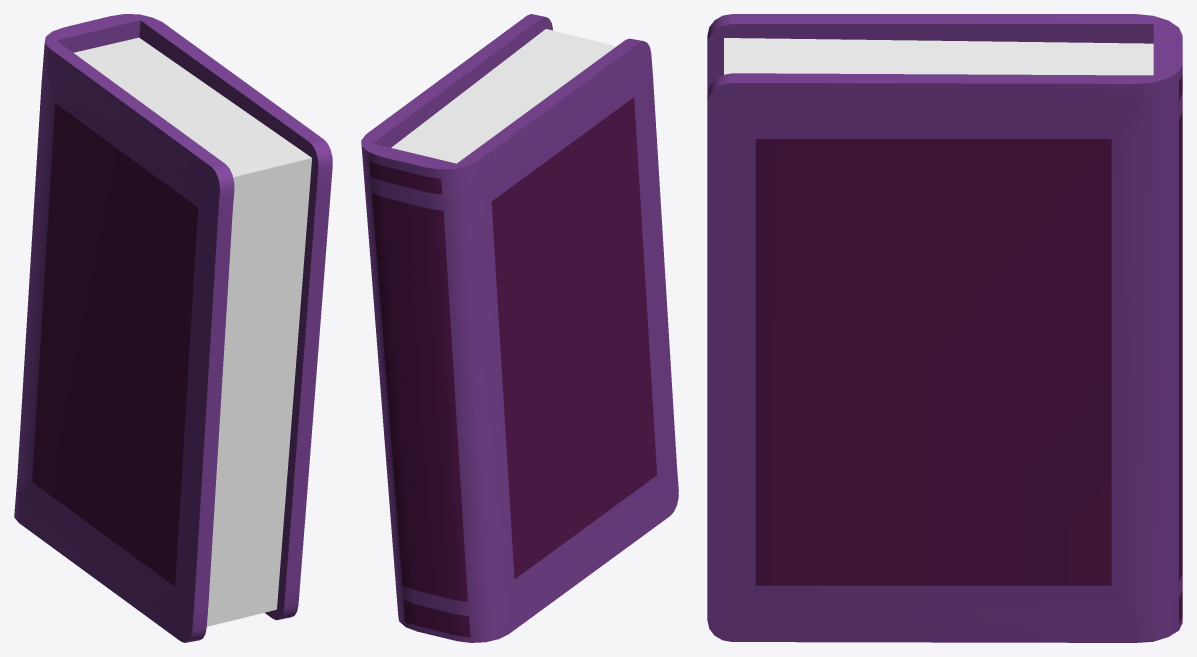
Rendered from book_18.fbx.
3 views of the same model, side by side, from view 1: azimuth 30°, elevation 25°; view 2: azimuth 150°, elevation 25°; view 3: azimuth 270°, elevation 25° (orthographic). The views are drawn at different scales.
Visible parts, largest first — view 1: book_18; view 2: book_18; view 3: book_18.
Part boxes in pixels (x1,y1,x2,y2): book_18: (14, 14, 332, 642); book_18: (361, 14, 678, 642); book_18: (707, 14, 1182, 642).
Size of the model in its own units: 0.1109 by 0.3466 by 0.2557.
